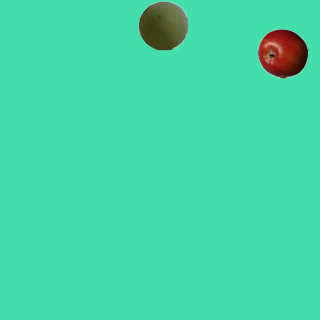Apple Braeburn: (257, 28, 307, 78)
Grape White 4: (137, 0, 187, 50)
